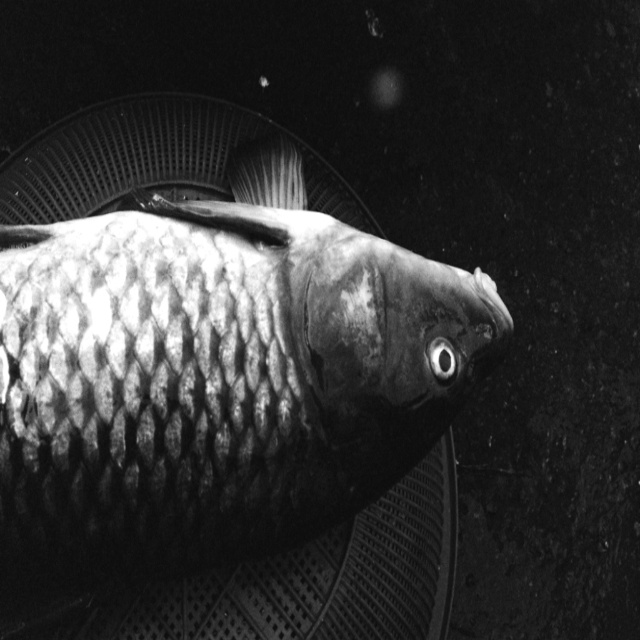Fish: (0, 129, 514, 640)
